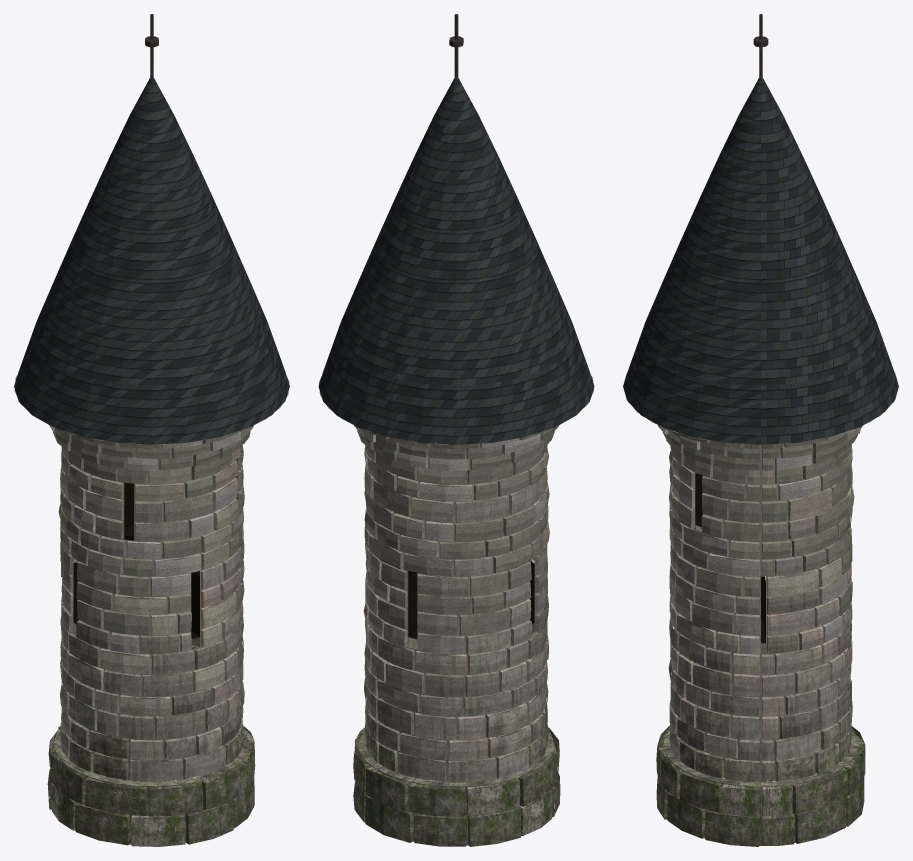
The model's file is fort_tower_cone.glb.
3 views of the same model, side by side, from view 1: azimuth 30°, elevation 25°; view 2: azimuth 150°, elevation 25°; view 3: azimuth 270°, elevation 25° (orthographic).
Visible parts, largest first — view 1: fort_tower_cone; view 2: fort_tower_cone; view 3: fort_tower_cone.
Boxes of the visible parts, x1,y1,x2,y2 form: fort_tower_cone: (14, 14, 289, 846); fort_tower_cone: (318, 14, 594, 846); fort_tower_cone: (623, 14, 898, 846).
Bounding box in the file's own units: 3.78 × 11.94 × 3.78.
Materials: 5 (5 with a texture image).
